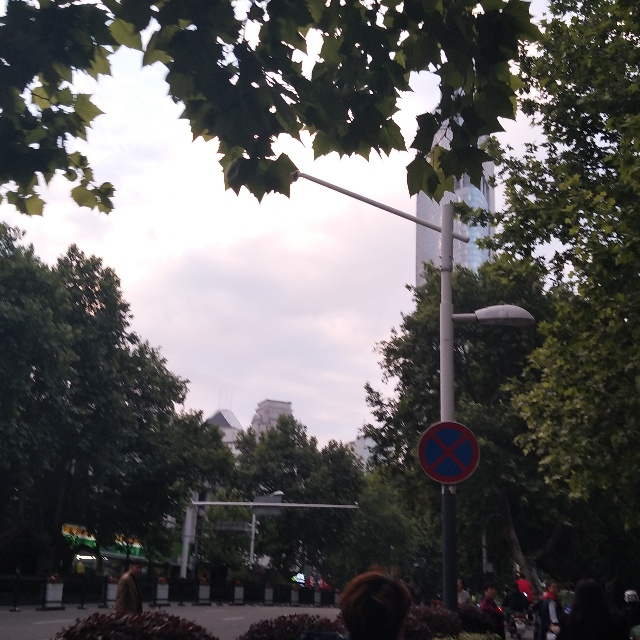stop: (423, 423, 473, 483)
